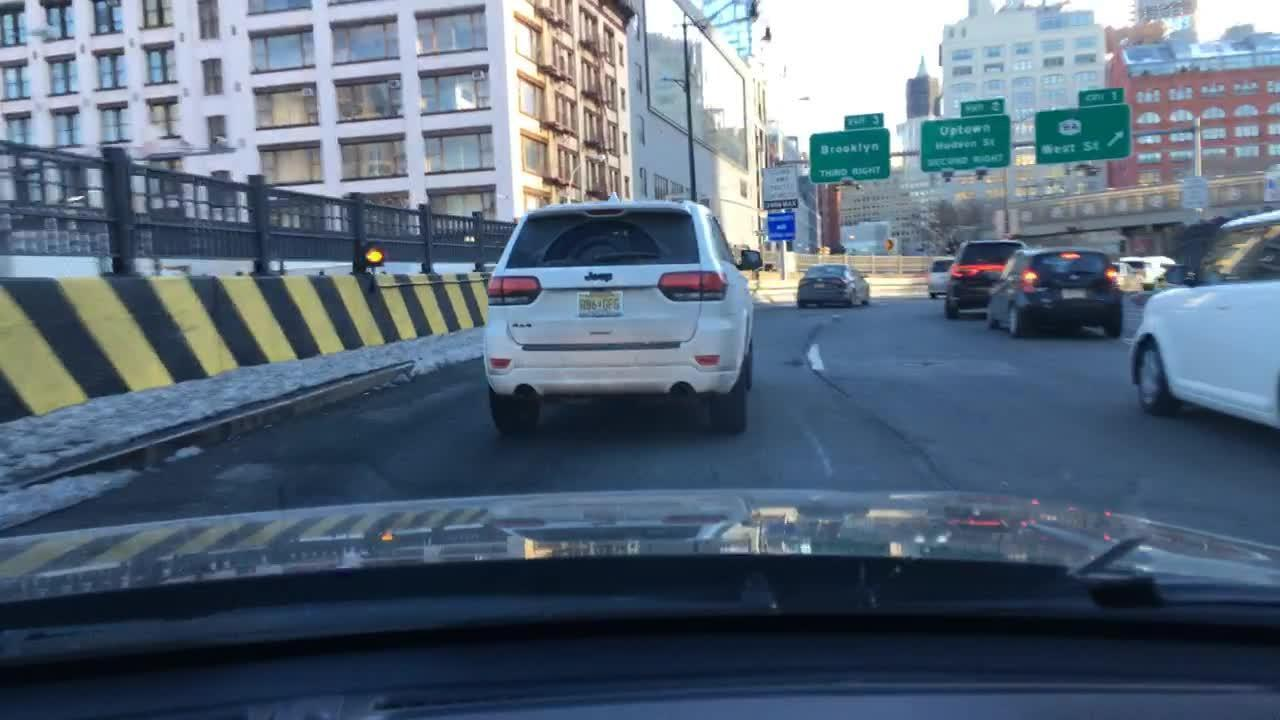jeep: (578, 269, 617, 286)
